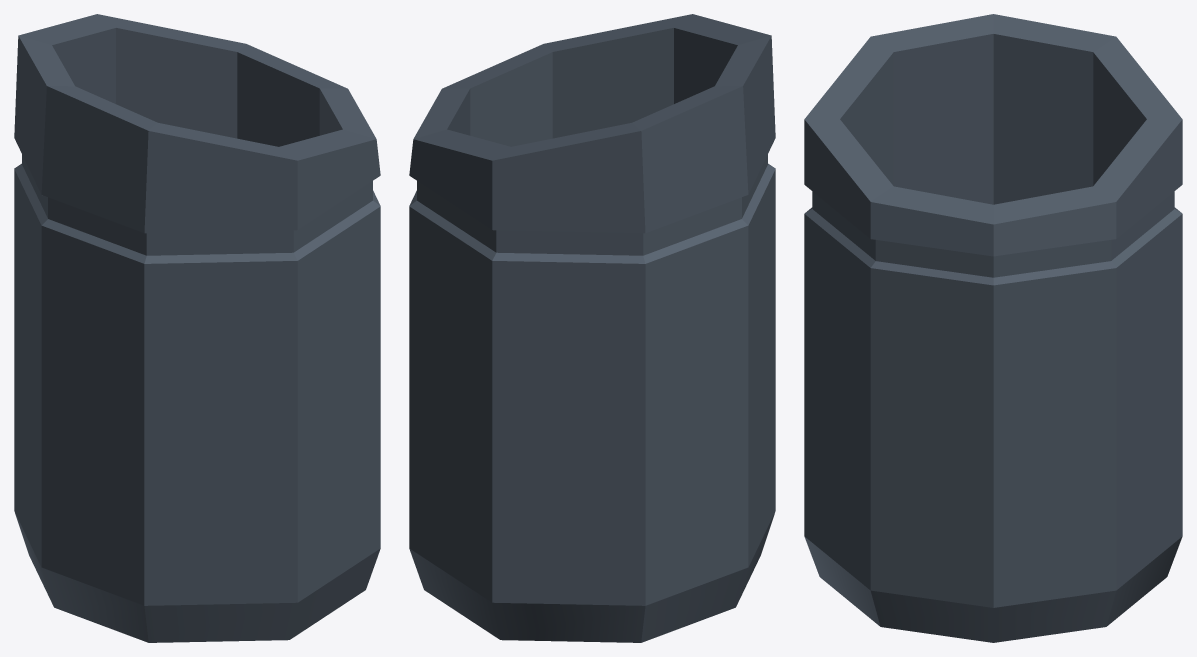
Rendered from Bin.fbx.
3 views of the same model, side by side, from view 1: azimuth 30°, elevation 25°; view 2: azimuth 150°, elevation 25°; view 3: azimuth 270°, elevation 25° (orthographic). The views are drawn at different scales.
Parts seen in each view (by area): view 1: Bin; view 2: Bin; view 3: Bin.
Boxes of the visible parts, x1,y1,x2,y2 form: Bin: (14,14,380,642); Bin: (409,14,775,642); Bin: (804,14,1182,642).
Size of the model in its own units: 19.79 by 31.72 by 22.03.
